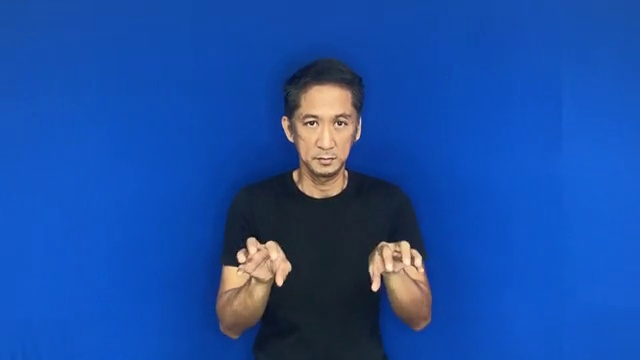egg: (230, 231, 428, 297)
